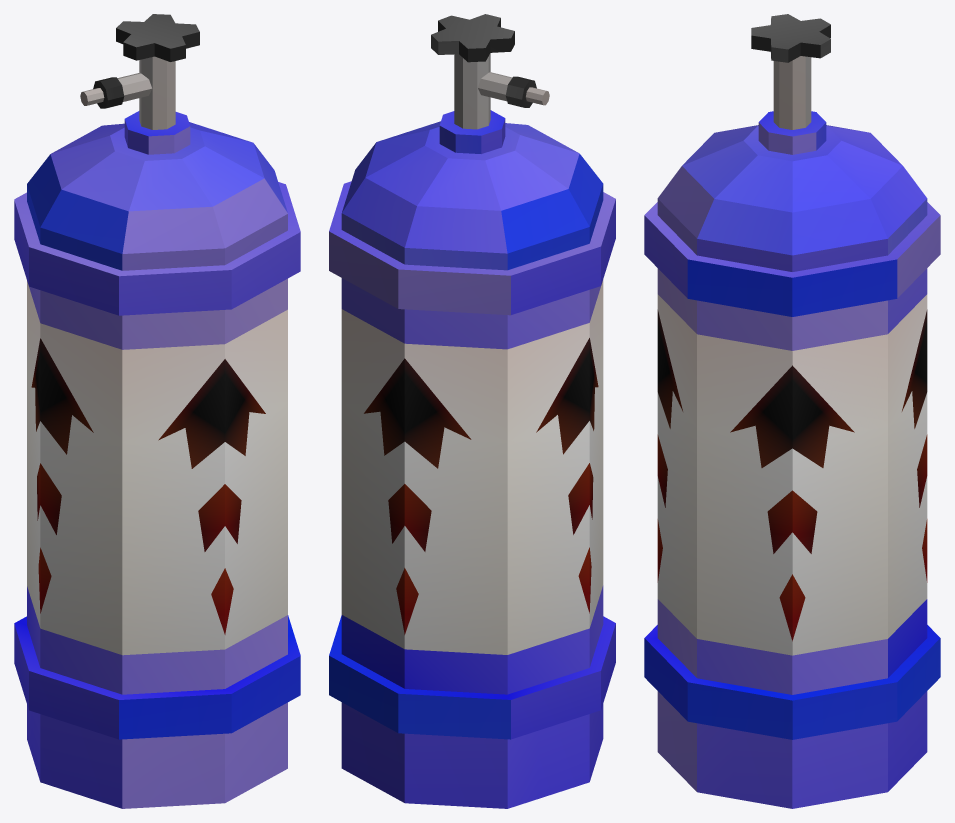
Rendered from nitro_boost1.fbx.
3 renders of one model, left to right at view 1: azimuth 30°, elevation 25°; view 2: azimuth 150°, elevation 25°; view 3: azimuth 270°, elevation 25°, orthographic.
Visible parts, largest first — view 1: nitro_boost1; view 2: nitro_boost1; view 3: nitro_boost1.
Part boxes in pixels (<box>): nitro_boost1: <box>14,14,300,808</box>; nitro_boost1: <box>329,14,615,808</box>; nitro_boost1: <box>644,14,940,808</box>.
Size of the model in its own units: 0.8778 by 2.36 by 0.8778.
